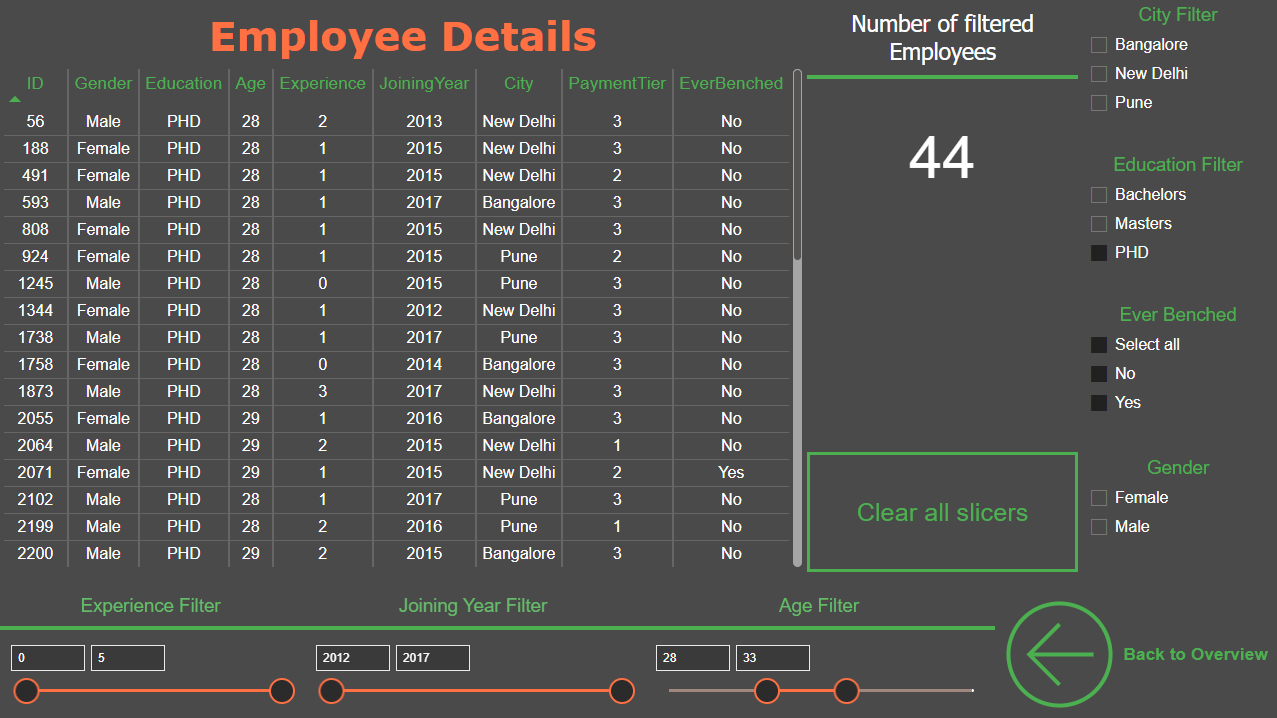

The page's visual inventory and layout, read from the dashboard file:
{"tool":"powerbi","page":{"name":"Employee Details","canvas":[1280,720],"ordinal":1},"visuals":[{"type":"tableEx","fields":{"Values":["Employee.ID","Employee.Gender","Employee.Education","Employee.Age","Employee.ExperienceInCurrentDomain","Employee.JoiningYear","Employee.City","Employee.PaymentTier","Employee.EverBenched"]},"box":[0,64.9,808.9,508.4],"z":0},{"type":"actionButton","box":[997.3,591.1,282.7,128.9],"z":1000},{"type":"slicer","title":"Age Filter","fields":{"Values":["Employee.Age"]},"box":[645.3,591.1,352,128.9],"z":2000},{"type":"card","title":"Number of filtered Employees","fields":{"Values":["CountNonNull(Employee.ID)"]},"box":[808.9,0,271.1,225.8],"z":3000},{"type":"slicer","title":"City Filter","fields":{"Values":["Employee.City"]},"box":[1080,0,200,150.2],"z":4000},{"type":"slicer","title":"Education Filter","fields":{"Values":["Employee.Education"]},"box":[1080,150.2,200,150.2],"z":5000},{"type":"slicer","title":"Ever Benched","fields":{"Values":["Employee.EverBenched"]},"box":[1080,300.4,200,152.9],"z":6000},{"type":"slicer","title":"Experience Filter","fields":{"Values":["Employee.ExperienceInCurrentDomain"]},"box":[0,591.1,304.9,128.9],"z":7000},{"type":"slicer","title":"Joining Year Filter","fields":{"Values":["Employee.JoiningYear"]},"box":[304.9,591.1,340.4,128.9],"z":8000},{"type":"slicer","title":"Gender","fields":{"Values":["Employee.Gender"]},"box":[1080,453.3,200,137.8],"z":9000},{"type":"actionButton","box":[808.9,453.3,271.1,120],"z":10000},{"type":"shape","title":"jghj","box":[0,0,808.9,72],"z":11000}]}

Visuals, with their boxes in screenshot pixels (x1, y1, x2, y2), scaled from the page's 1280x720 canvas onto the 1277x718 screenshot:
tableEx - Employee.ID x Employee.Gender: {"left": 0, "top": 65, "right": 807, "bottom": 572}
actionButton: {"left": 995, "top": 589, "right": 1276, "bottom": 717}
"Age Filter" slicer: {"left": 644, "top": 589, "right": 995, "bottom": 717}
"Number of filtered Employees" card: {"left": 807, "top": 0, "right": 1077, "bottom": 225}
"City Filter" slicer: {"left": 1077, "top": 0, "right": 1276, "bottom": 150}
"Education Filter" slicer: {"left": 1077, "top": 150, "right": 1276, "bottom": 300}
"Ever Benched" slicer: {"left": 1077, "top": 300, "right": 1276, "bottom": 452}
"Experience Filter" slicer: {"left": 0, "top": 589, "right": 304, "bottom": 717}
"Joining Year Filter" slicer: {"left": 304, "top": 589, "right": 644, "bottom": 717}
"Gender" slicer: {"left": 1077, "top": 452, "right": 1276, "bottom": 589}
actionButton: {"left": 807, "top": 452, "right": 1077, "bottom": 572}
"jghj" shape: {"left": 0, "top": 0, "right": 807, "bottom": 72}
